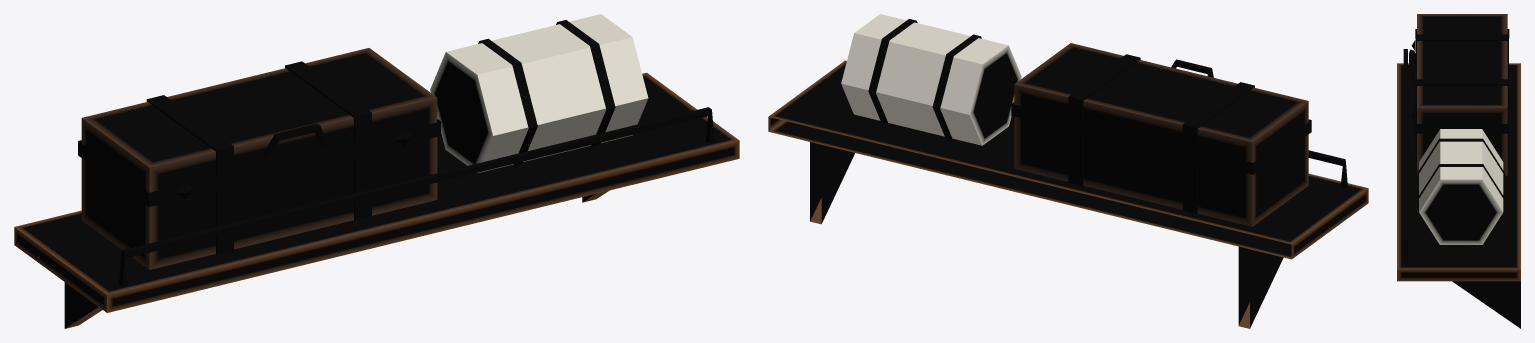
Rendered from luggage_rack.glb.
3 views of the same model, side by side, from view 1: azimuth 30°, elevation 25°; view 2: azimuth 150°, elevation 25°; view 3: azimuth 270°, elevation 25° (orthographic). The views are drawn at different scales.
Visible parts, largest first — view 1: leather, frame, linen, dark, brass, rope; view 2: leather, frame, linen, dark, rope, brass; view 3: frame, leather, linen, dark, brass, rope.
Part boxes in pixels (x1=…): leather: x1=81, y1=48, x2=437, y2=269; frame: x1=14, y1=72, x2=739, y2=328; linen: x1=430, y1=14, x2=648, y2=173; dark: x1=78, y1=61, x2=440, y2=254; brass: x1=119, y1=107, x2=714, y2=286; rope: x1=478, y1=20, x2=615, y2=165; leather: x1=1014, y1=43, x2=1308, y2=226; frame: x1=768, y1=60, x2=1368, y2=328; linen: x1=841, y1=14, x2=1021, y2=145; dark: x1=1011, y1=54, x2=1311, y2=213; rope: x1=868, y1=19, x2=981, y2=139; brass: x1=1171, y1=59, x2=1347, y2=188; frame: x1=1397, y1=63, x2=1520, y2=328; leather: x1=1417, y1=14, x2=1507, y2=175; linen: x1=1419, y1=129, x2=1503, y2=244; dark: x1=1415, y1=29, x2=1509, y2=154; brass: x1=1403, y1=40, x2=1416, y2=262; rope: x1=1417, y1=138, x2=1504, y2=203.
Bounding box in the file's own units: 1.1 × 0.3705 × 0.28.
